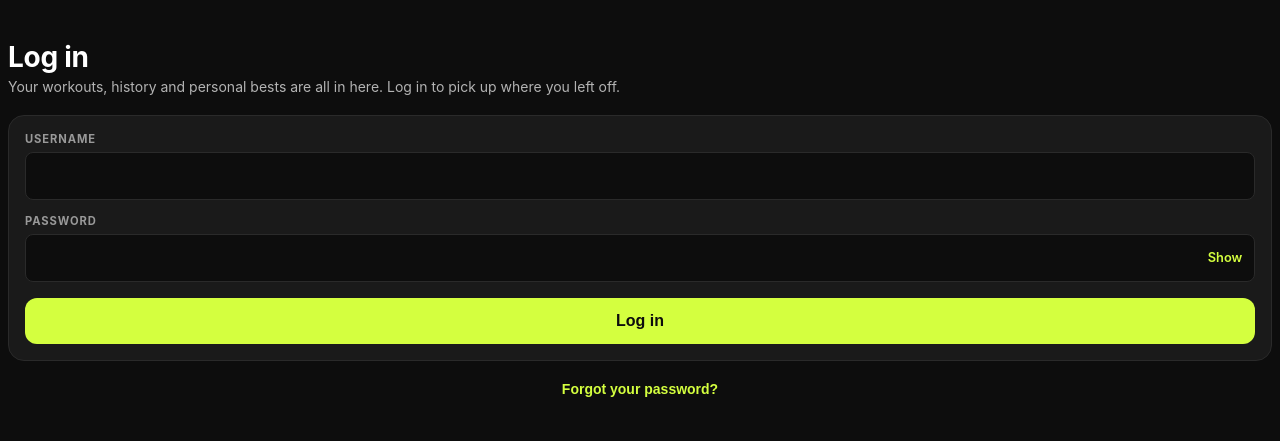
Scenario: Login › shows the rate-limit message with its wording untouched too
Step 1. Type "kapekost" into the field labelled "Username" → (640, 176), box [25,152,1255,200]
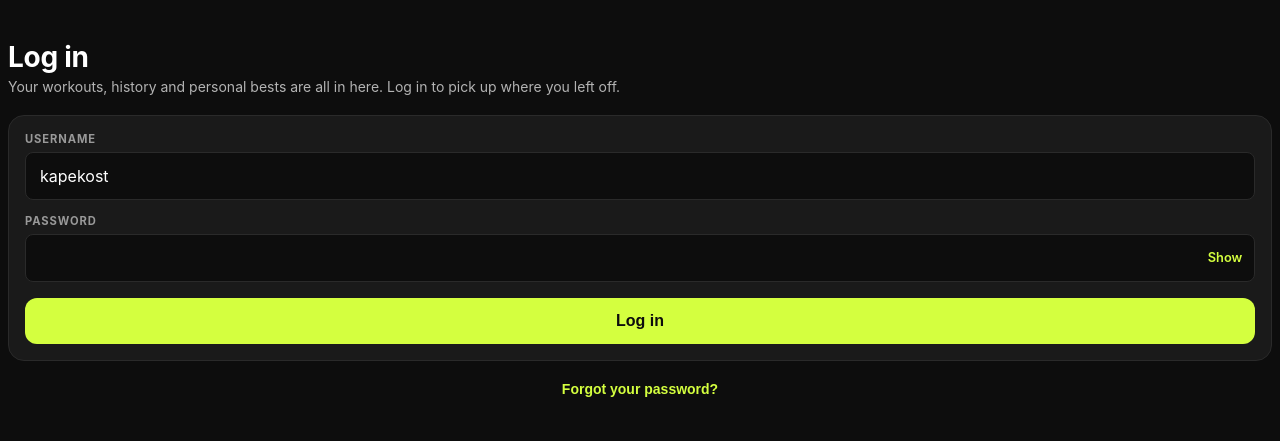
Step 2. Type "correct horse battery" into the password field labelled "Password" → (640, 258), box [25,234,1255,282]
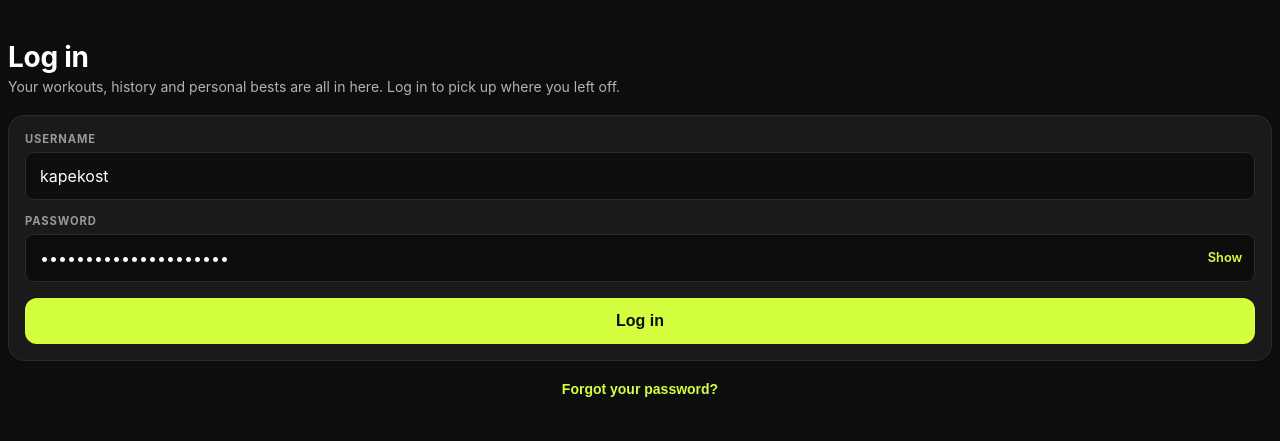
Step 3. Click the button "Log in" → (640, 320), box [25,298,1255,344]
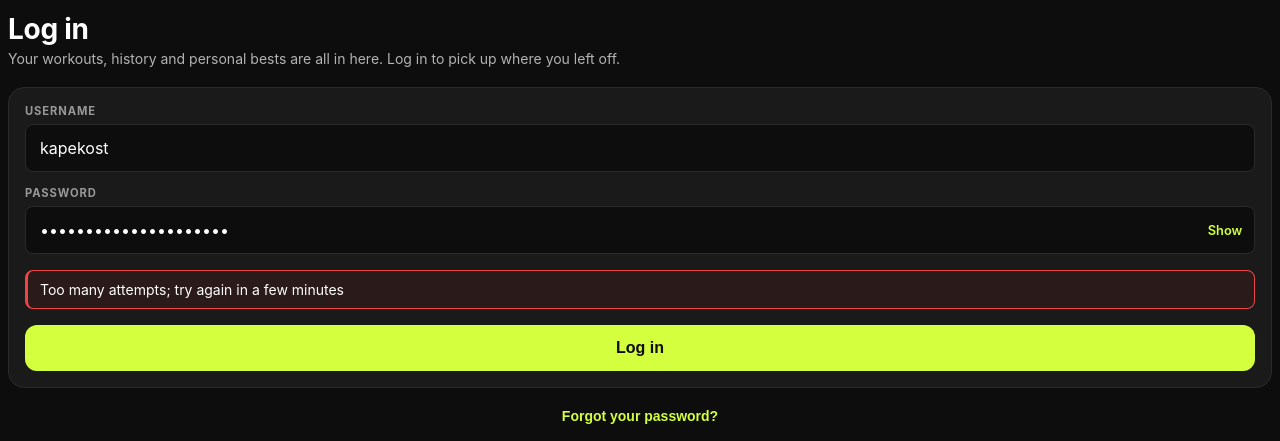
Check: the message reads "Too many attempts; try again in a few minutes", box [40,281,344,298]
